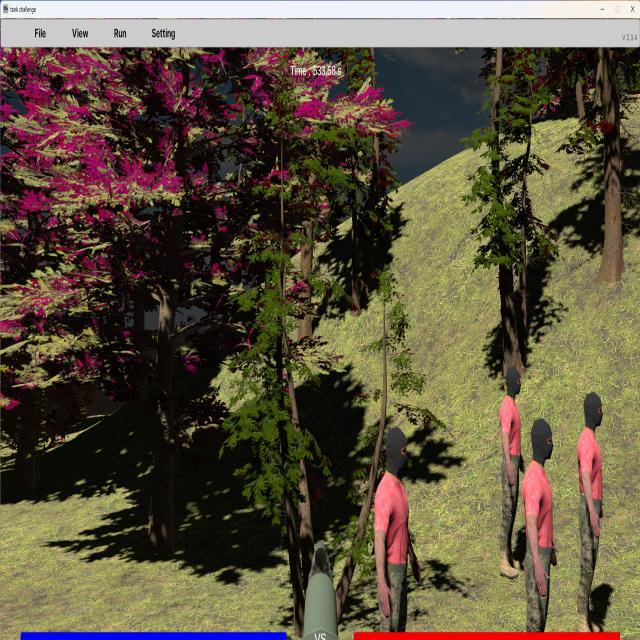Human: (368, 426, 422, 637), (521, 419, 559, 640), (575, 391, 608, 640), (497, 365, 526, 586)
